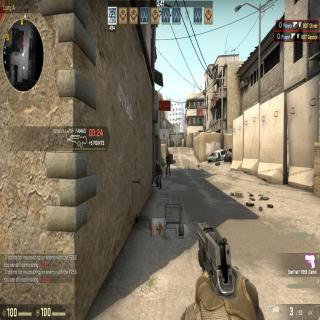T-Body: (154, 162, 162, 188), (166, 152, 170, 176)
T-Head: (156, 161, 159, 167), (166, 152, 168, 156)
